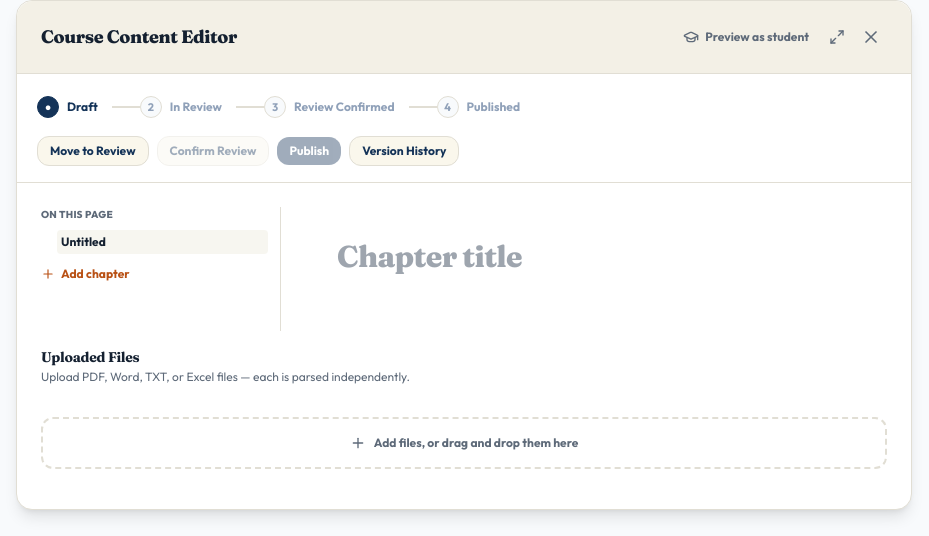
Test case: CourseContentEditor -- Topic/Sub-Topic structure (Story 7.2) › offers the "expand" query as the Expand command
This screenshot has width=929, height=536.
In the field: x=592, y=269 [337,239,847,299], type "/expand"
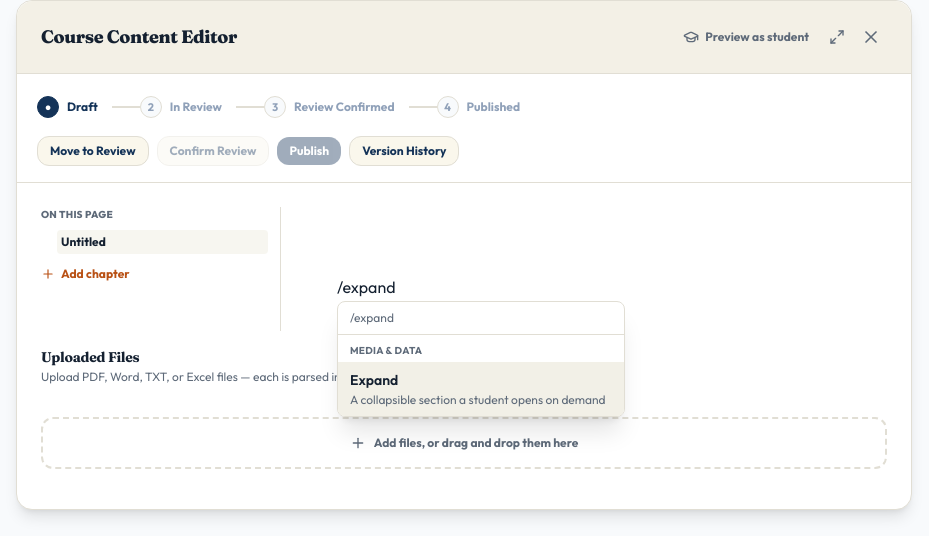
Expected: the text "Expand" is shown, [350,370,398,390]
